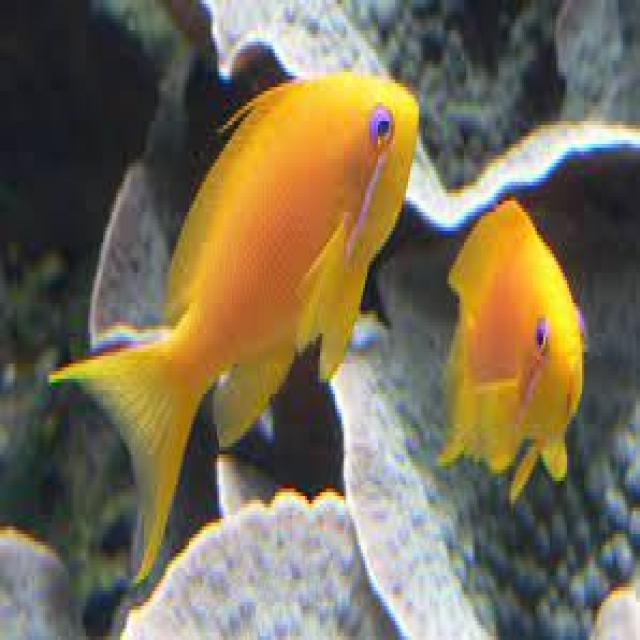Sea Goldie: (51, 77, 418, 579), (438, 203, 586, 501)
